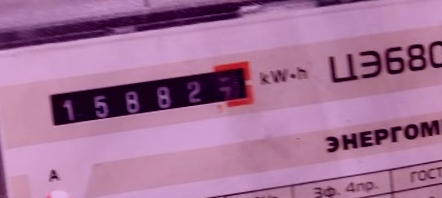1: (60, 97, 77, 123)
2: (184, 77, 203, 105)
5: (90, 92, 109, 119)
7: (216, 83, 232, 101)
8: (121, 88, 141, 114), (153, 82, 172, 109)
screen: (33, 52, 265, 141)
